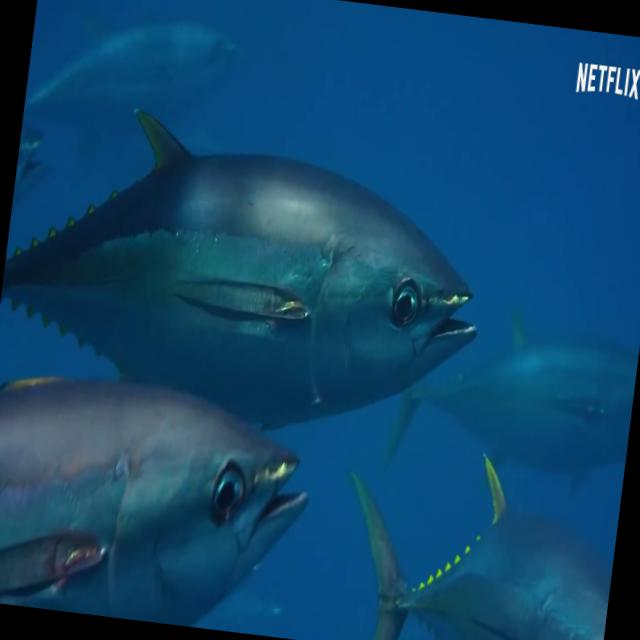fish: (0, 97, 496, 446), (0, 342, 314, 637), (309, 424, 625, 640), (371, 274, 640, 524), (11, 0, 269, 238)
